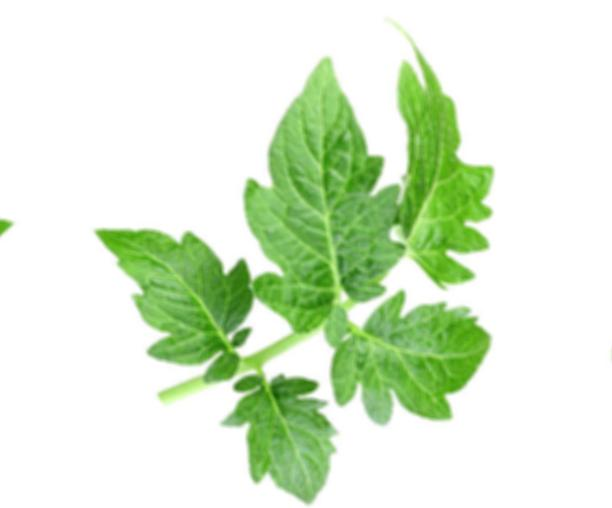Tomato leaf: (211, 45, 422, 342), (350, 31, 542, 314), (71, 206, 286, 387), (305, 274, 522, 429), (205, 363, 347, 508)
